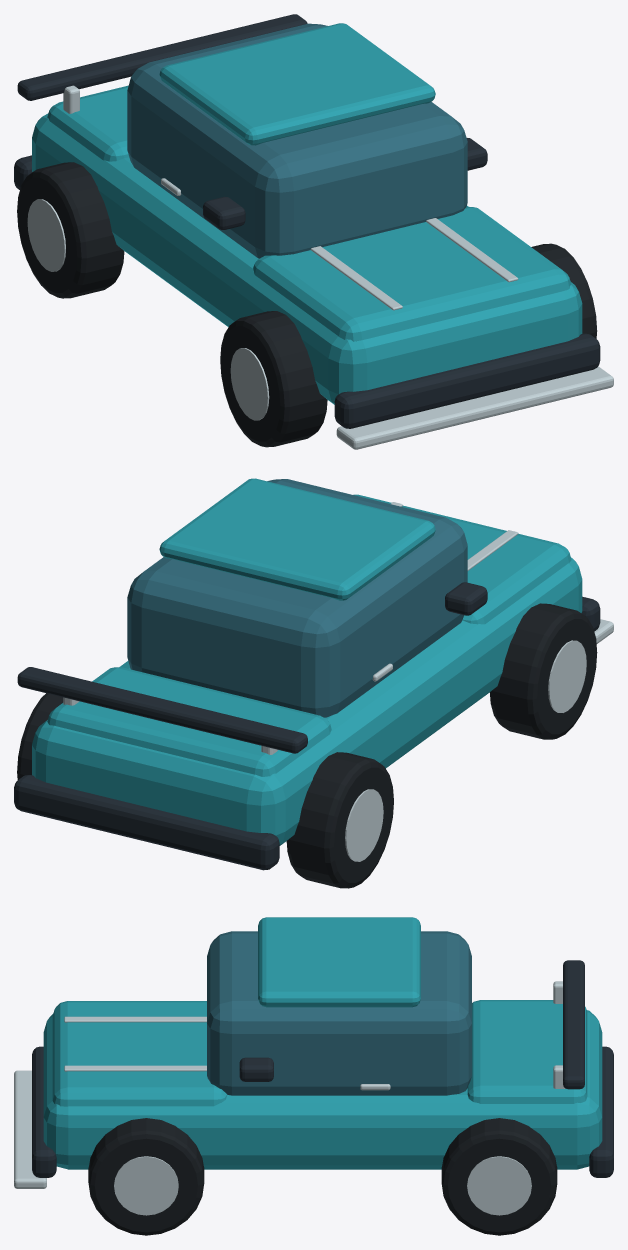
Rendered from car.glb.
The picture shows the model from 3 angles, top to bottom: view 1: azimuth 30°, elevation 25°; view 2: azimuth 150°, elevation 25°; view 3: azimuth 270°, elevation 25°; orthographic projection. The views are drawn at different scales.
Parts seen in each view (by area): view 1: Cabin, Chassis, Hood, Roof, FrontBumper, Wheel_LR_Tire, Wheel_LF_Tire, FrontSplitter, RearSpoiler, RearDeck, Wheel_LF_Rim, Wheel_LR_Rim (+4 smaller); view 2: Cabin, Chassis, Roof, RearDeck, RearBumper, Wheel_LF_Tire, Wheel_LR_Tire, RearSpoiler, Hood, Wheel_LF_Rim, Wheel_LR_Rim, Wheel_RR_Tire (+2 smaller); view 3: Chassis, Cabin, Hood, Roof, RearDeck, Wheel_RR_Tire, Wheel_RF_Tire, Wheel_RR_Rim, Wheel_RF_Rim, RearSpoiler, FrontSplitter, RearBumper (+4 smaller).
Boxes of the visible parts, bbox=[...] form: Cabin: bbox=[127, 23, 467, 258]; Chassis: bbox=[32, 113, 582, 404]; Hood: bbox=[253, 206, 571, 341]; Roof: bbox=[159, 23, 435, 145]; FrontBumper: bbox=[334, 333, 600, 428]; Wheel_LR_Tire: bbox=[17, 162, 124, 298]; Wheel_LF_Tire: bbox=[220, 311, 327, 447]; FrontSplitter: bbox=[336, 366, 613, 449]; RearSpoiler: bbox=[17, 14, 307, 100]; RearDeck: bbox=[47, 85, 129, 161]; Wheel_LF_Rim: bbox=[230, 348, 269, 420]; Wheel_LR_Rim: bbox=[27, 199, 65, 271]; Cabin: bbox=[127, 479, 467, 717]; Chassis: bbox=[32, 557, 582, 845]; Roof: bbox=[159, 478, 435, 600]; RearDeck: bbox=[47, 667, 331, 776]; RearBumper: bbox=[14, 775, 279, 870]; Wheel_LF_Tire: bbox=[490, 603, 597, 739]; Wheel_LR_Tire: bbox=[286, 752, 393, 888]; RearSpoiler: bbox=[17, 667, 307, 753]; Hood: bbox=[353, 494, 571, 624]; Wheel_LF_Rim: bbox=[548, 640, 586, 712]; Wheel_LR_Rim: bbox=[345, 789, 383, 861]; Wheel_RR_Tire: bbox=[17, 693, 63, 779]; Chassis: bbox=[43, 1010, 602, 1169]; Cabin: bbox=[207, 931, 471, 1095]; Hood: bbox=[52, 1001, 227, 1106]; Roof: bbox=[258, 917, 420, 1007]; RearDeck: bbox=[467, 1000, 587, 1103]; Wheel_RR_Tire: bbox=[441, 1118, 557, 1235]; Wheel_RF_Tire: bbox=[88, 1118, 204, 1235]; Wheel_RR_Rim: bbox=[467, 1156, 531, 1215]; Wheel_RF_Rim: bbox=[114, 1156, 178, 1215]; RearSpoiler: bbox=[563, 960, 584, 1089]; FrontSplitter: bbox=[14, 1070, 46, 1188]; RearBumper: bbox=[589, 1046, 613, 1177].
Size of the model in its own units: 2.32 by 1.73 by 4.35.
